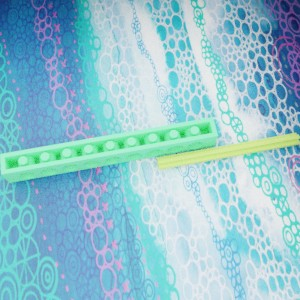lego: (0, 117, 218, 182), (156, 132, 300, 170)
